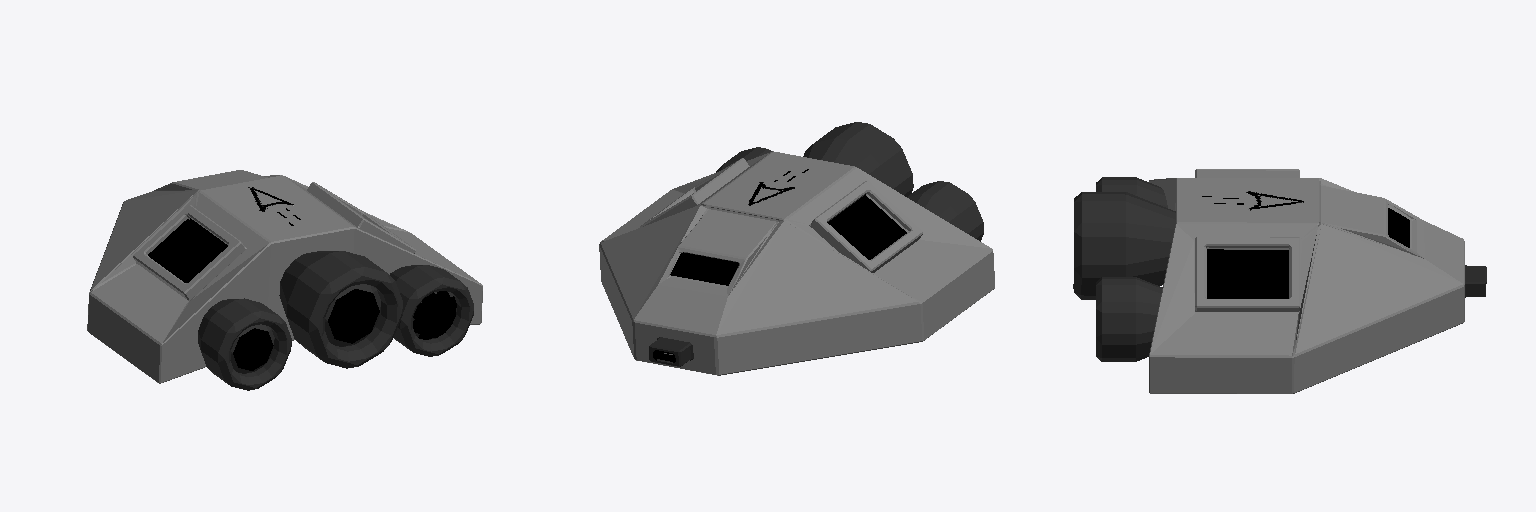
3 views of the same model, side by side, from view 1: azimuth 30°, elevation 25°; view 2: azimuth 150°, elevation 25°; view 3: azimuth 270°, elevation 25° (orthographic).
Parts seen in each view (by area): view 1: Plane, Circle.001, Circle; view 2: Plane, Circle, Circle.001; view 3: Plane, Circle, Circle.001.
Boxes of the visible parts, <box> form: Plane: <box>87,170,482,383</box>; Circle.001: <box>198,265,473,390</box>; Circle: <box>279,251,402,368</box>; Plane: <box>599,151,994,375</box>; Circle: <box>803,122,913,196</box>; Circle.001: <box>716,147,983,241</box>; Plane: <box>1149,169,1486,393</box>; Circle: <box>1073,192,1175,299</box>; Circle.001: <box>1096,177,1167,361</box>.
Size of the model in its own units: 3.15 by 1.12 by 3.47.
5 materials, 1 textured.